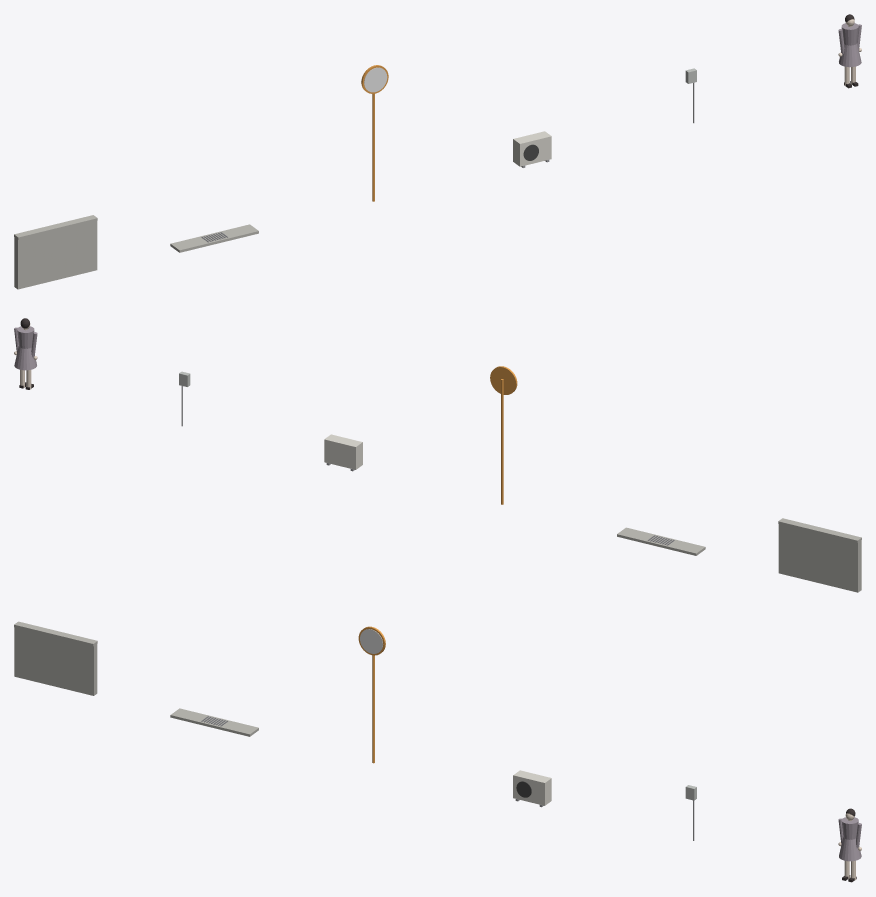
Rendered from street_props.glb.
3 renders of one model, top to bottom at view 1: azimuth 30°, elevation 25°; view 2: azimuth 150°, elevation 25°; view 3: azimuth 330°, elevation 25°, orthographic.
Visible parts, largest first — view 1: BlockWall_2m, Mannequin_F, ACUnit, GutterLid_2m, CurveMirror; view 2: BlockWall_2m, Mannequin_F, ACUnit, GutterLid_2m, CurveMirror; view 3: BlockWall_2m, Mannequin_F, ACUnit, GutterLid_2m, CurveMirror.
Boxes of the visible parts, bbox=[...] form: BlockWall_2m: bbox=[14, 215, 97, 289]; Mannequin_F: bbox=[838, 14, 861, 88]; ACUnit: bbox=[513, 131, 551, 167]; GutterLid_2m: bbox=[170, 224, 258, 252]; CurveMirror: bbox=[361, 65, 388, 201]; BlockWall_2m: bbox=[778, 518, 861, 592]; Mannequin_F: bbox=[14, 318, 37, 389]; ACUnit: bbox=[324, 434, 362, 471]; GutterLid_2m: bbox=[617, 527, 705, 555]; CurveMirror: bbox=[490, 366, 517, 504]; BlockWall_2m: bbox=[14, 621, 97, 695]; Mannequin_F: bbox=[838, 808, 861, 882]; ACUnit: bbox=[513, 770, 551, 807]; GutterLid_2m: bbox=[170, 708, 258, 736]; CurveMirror: bbox=[358, 626, 385, 763].
Bounding box in the file's own units: 21.29 × 3.28 × 0.5.
